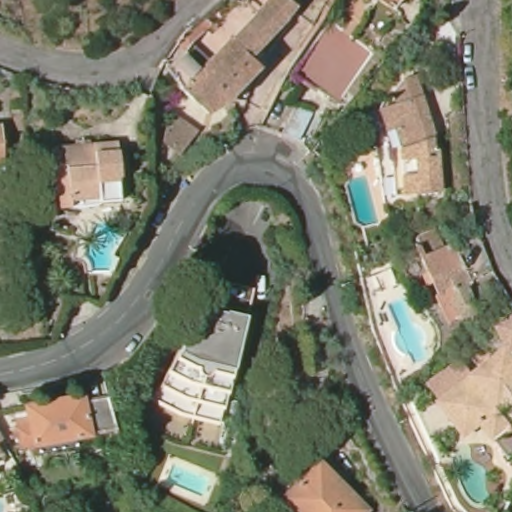pool: (386, 298, 432, 367), (83, 219, 123, 275), (165, 456, 215, 498), (345, 174, 381, 230), (451, 457, 493, 504)
